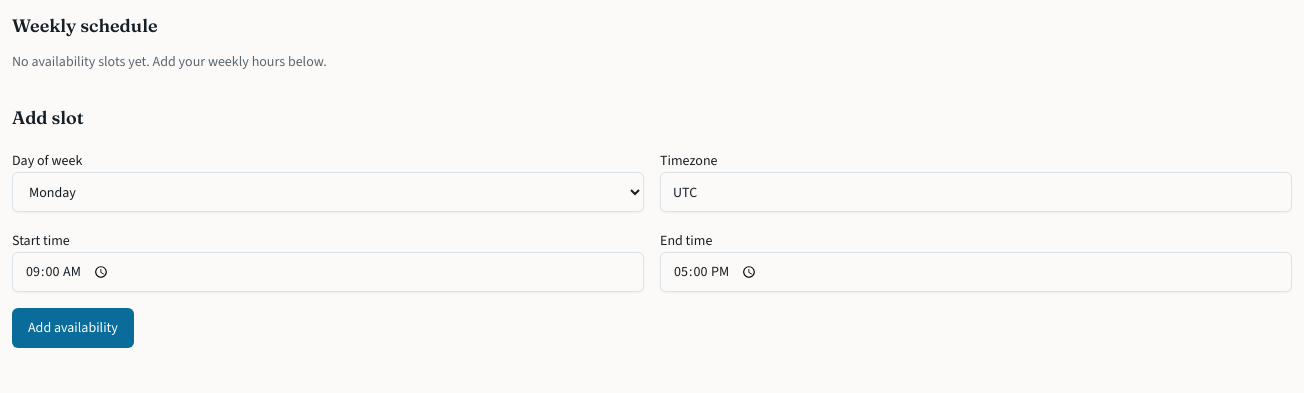
Test: AvailabilityEditor › shows empty state then validates end time before start
Expected: the text "No availability slots yet. Add your weekly hours below." is shown, [12,52,327,71]
Replace the text in the time field labelled "Start time" with "17:00": {"x": 328, "y": 272} [12,252,644,292]
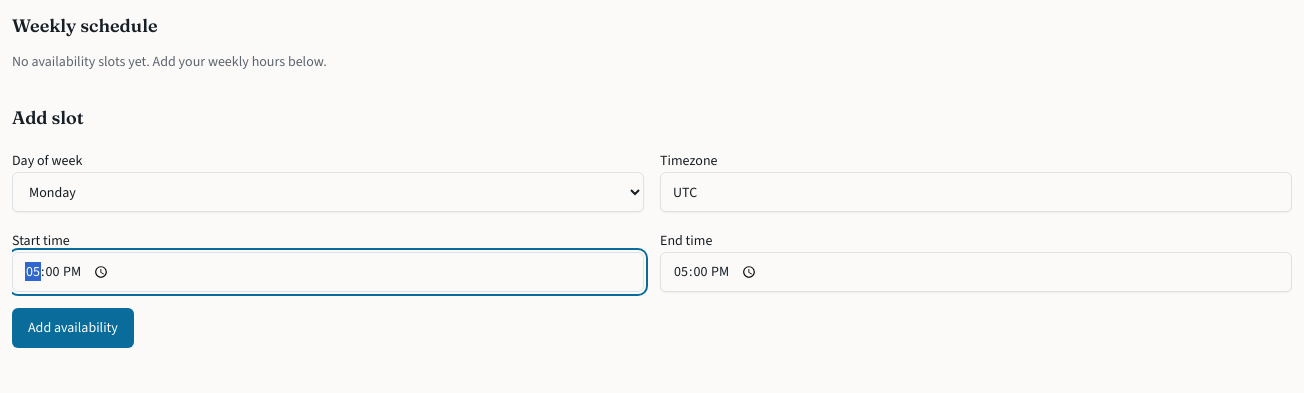
Replace the text in the time field labelled "End time" with "09:00": {"x": 976, "y": 272} [660,252,1292,292]
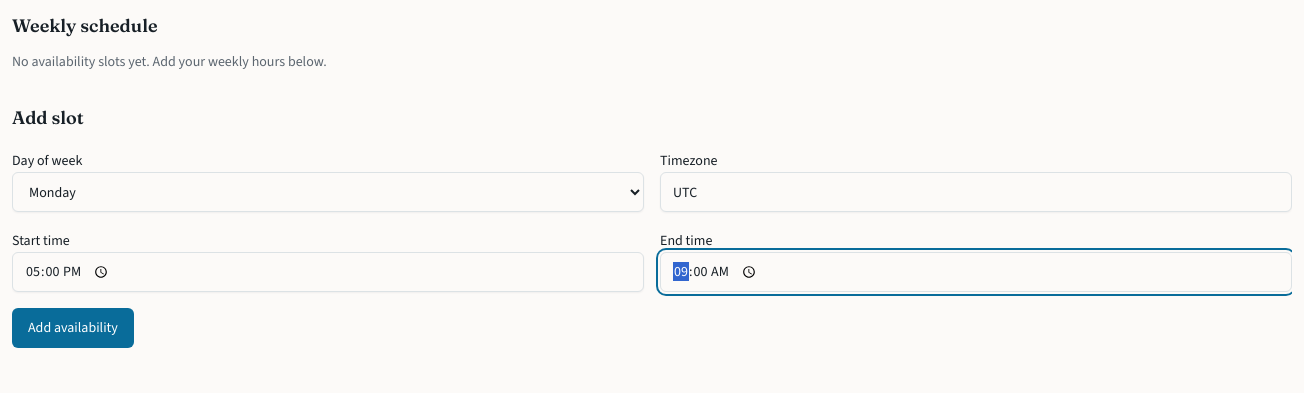
Click the button "Add availability": {"x": 73, "y": 328} [12,308,134,348]
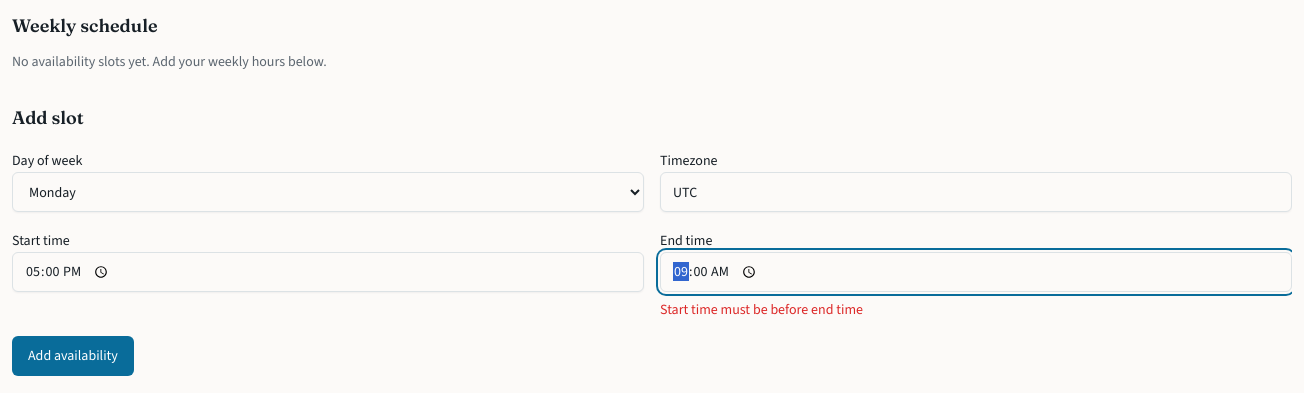
Now the text "Start time must be before end time" is shown, box [660,300,863,319]
